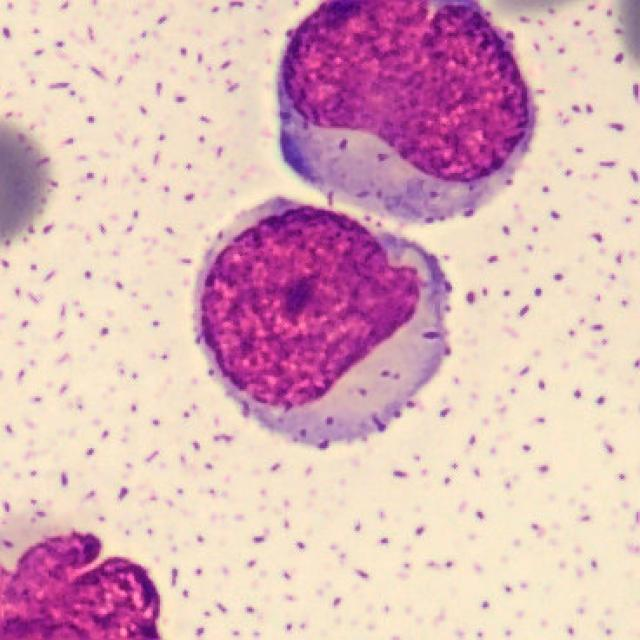Mieloblasto: (193, 197, 443, 450), (277, 0, 536, 225)
